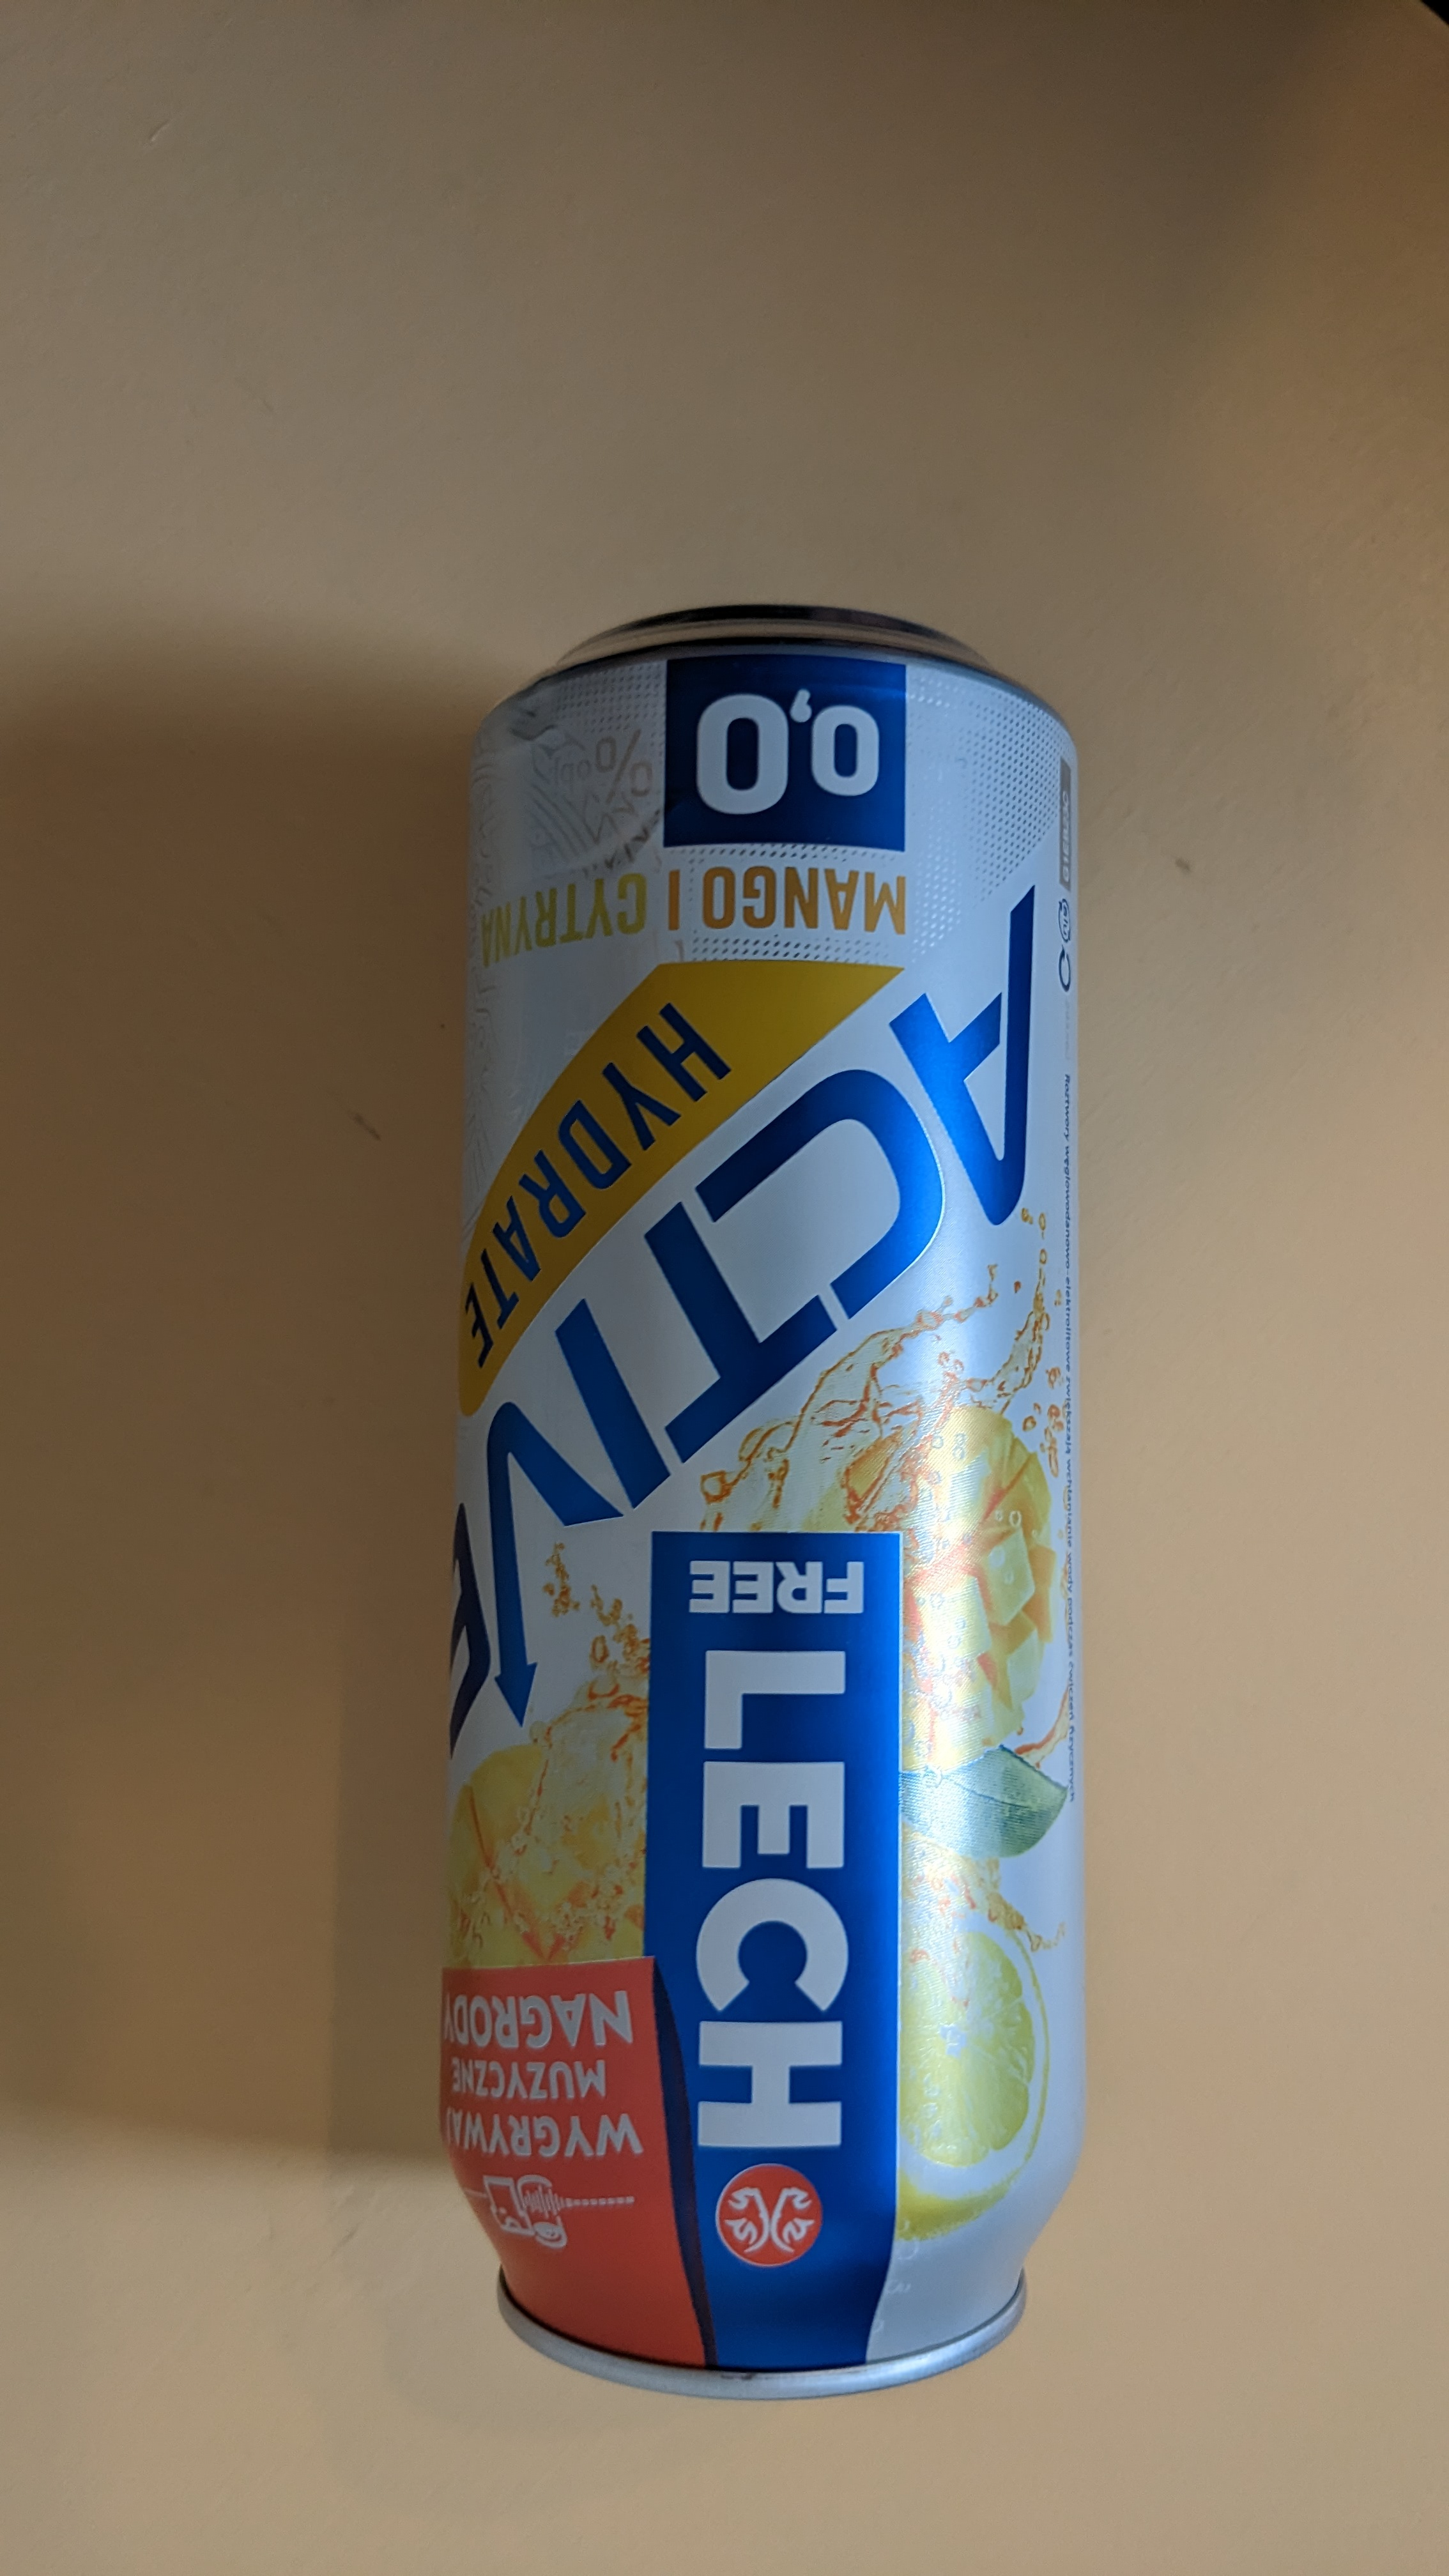lech-active: (414, 598, 1146, 2415)
